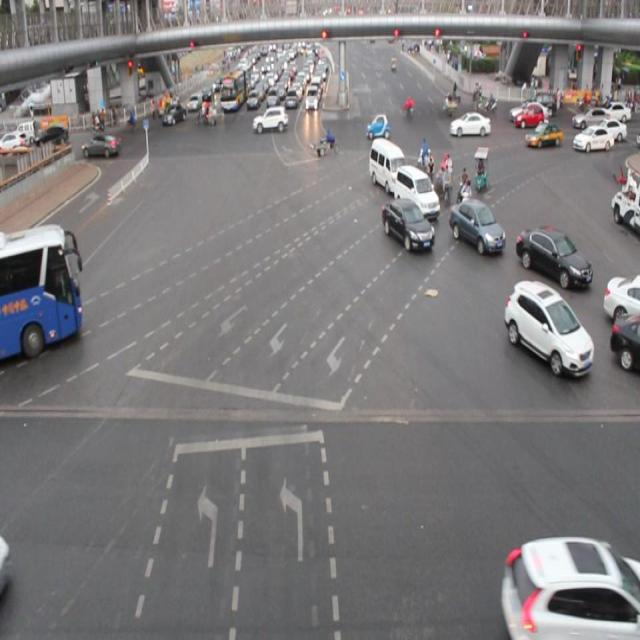car: (500, 531, 640, 640), (504, 279, 592, 375), (516, 218, 591, 290), (448, 198, 504, 252), (382, 199, 432, 250), (601, 265, 640, 325), (607, 312, 640, 368), (574, 125, 613, 152), (449, 112, 490, 135), (524, 123, 561, 147), (82, 136, 120, 158), (252, 109, 288, 130), (516, 105, 542, 128)
truck: (396, 166, 441, 216), (370, 138, 406, 195)
van: (1, 229, 85, 367)
